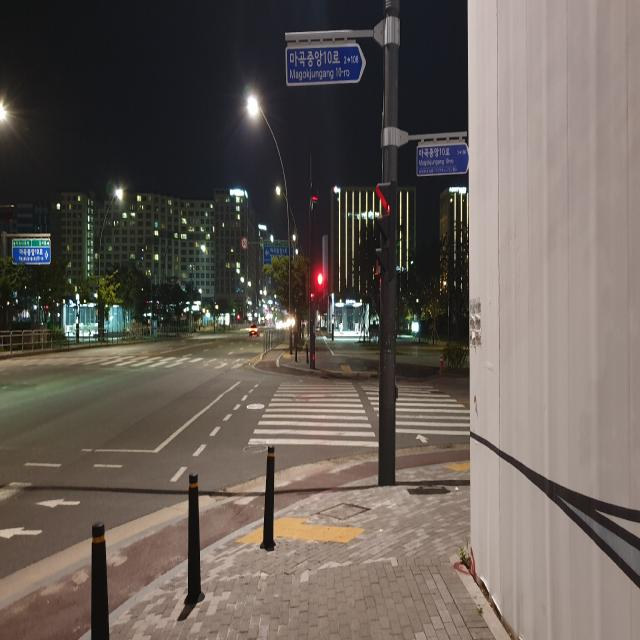빨간불: (315, 268, 329, 310)
횡단보도: (248, 379, 470, 447)
